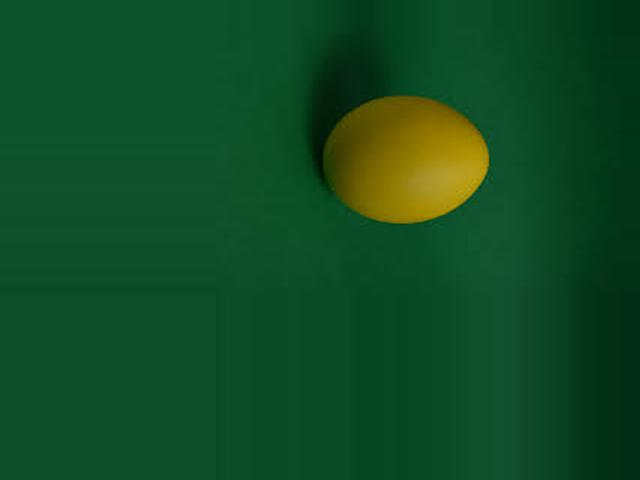egg: (320, 99, 489, 225)
